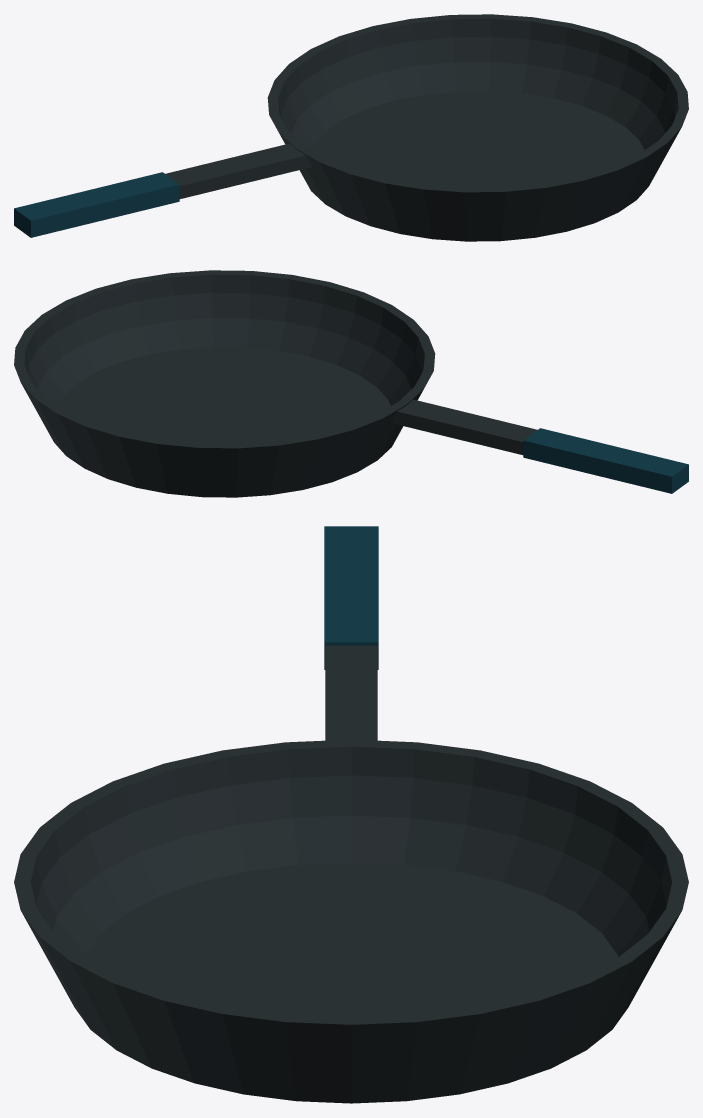
Rendered from PanV1.fbx.
The picture shows the model from 3 angles, top to bottom: view 1: azimuth 30°, elevation 25°; view 2: azimuth 150°, elevation 25°; view 3: azimuth 270°, elevation 25°; orthographic projection. The views are drawn at different scales.
Parts seen in each view (by area): view 1: Cylinder; view 2: Cylinder; view 3: Cylinder.
Boxes of the visible parts, x1=… form: Cylinder: x1=14, y1=14, x2=688, y2=241; Cylinder: x1=14, y1=270, x2=688, y2=497; Cylinder: x1=14, y1=526, x2=688, y2=1103.
Bounding box in the file's own units: 481 × 840 × 80.16.
